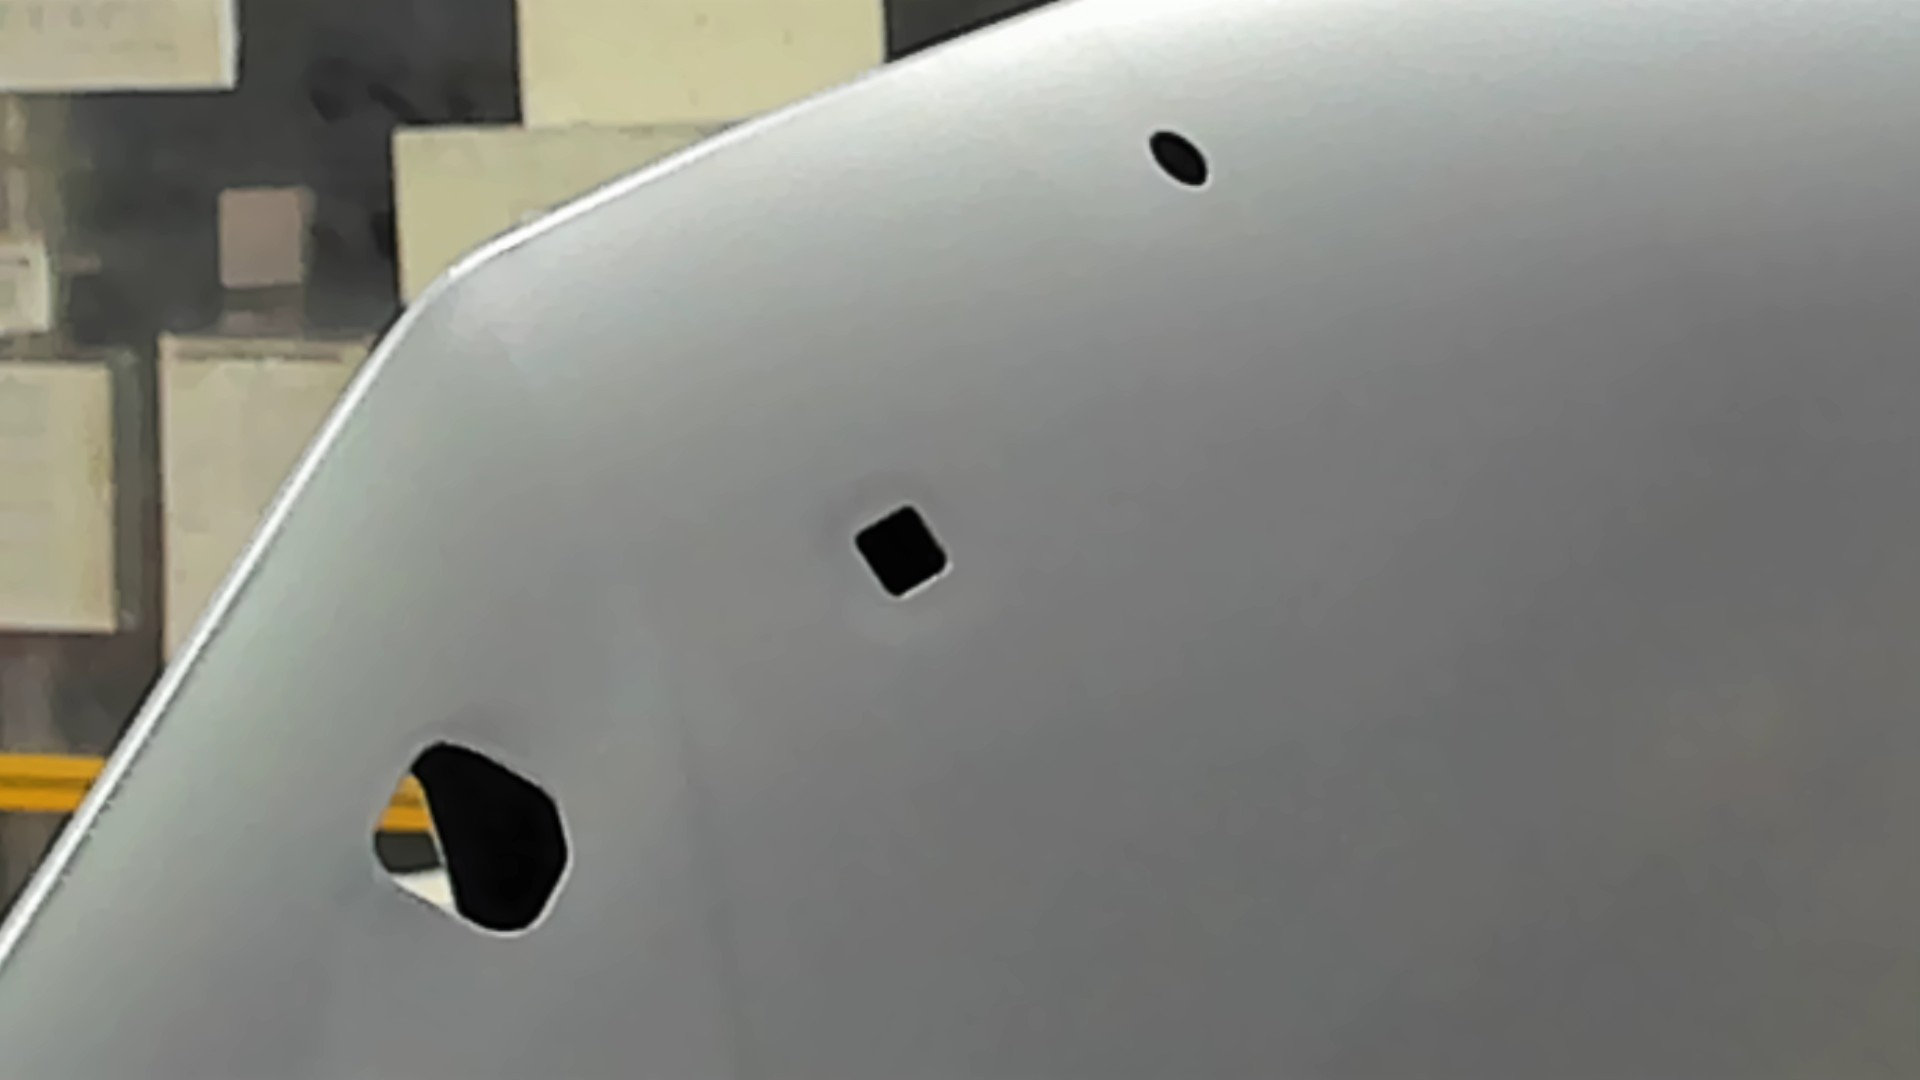chico: (1143, 127, 1211, 190)
grande: (368, 736, 574, 944)
mediano: (845, 497, 952, 605)
